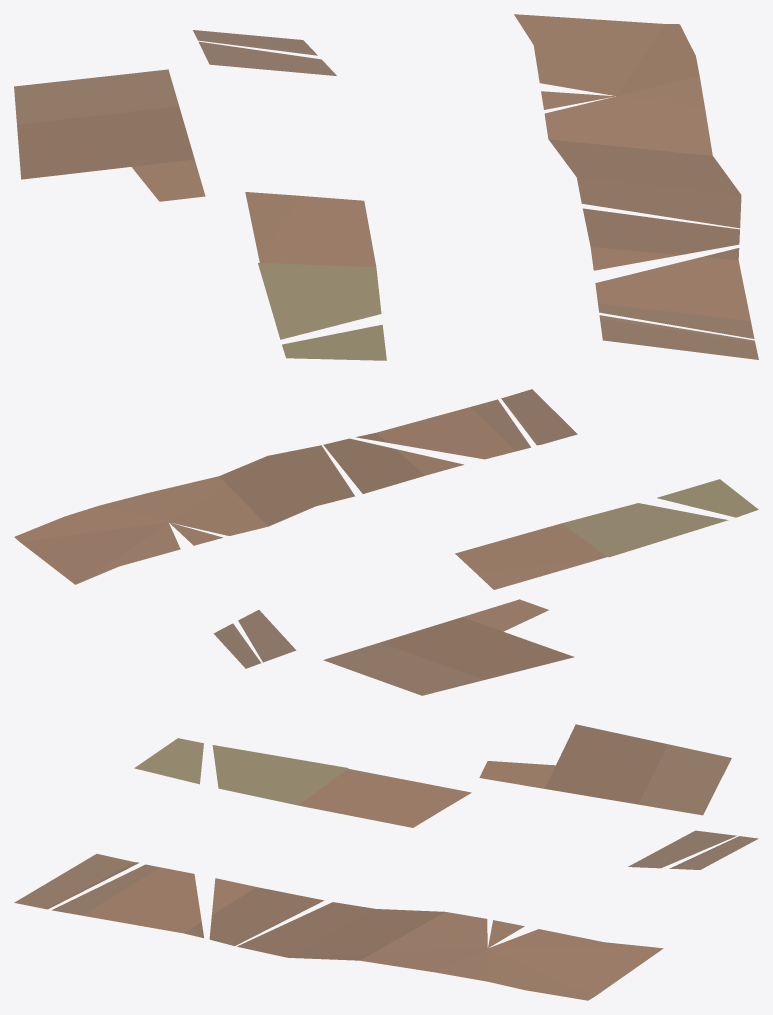
File: farm_22_39_soil.glb
3 views of the same model, one above another, from view 1: azimuth 30°, elevation 25°; view 2: azimuth 150°, elevation 25°; view 3: azimuth 270°, elevation 25° (orthographic). The views are drawn at different scales.
Parts seen in each view (by area): view 1: geometry_0; view 2: geometry_0; view 3: geometry_0.
Part boxes in pixels (x1,y1,x2,y2): geometry_0: (14, 14, 758, 360); geometry_0: (14, 389, 758, 695); geometry_0: (14, 724, 758, 1000).
Bounding box in the file's own units: 180 × 7.1 × 213.
